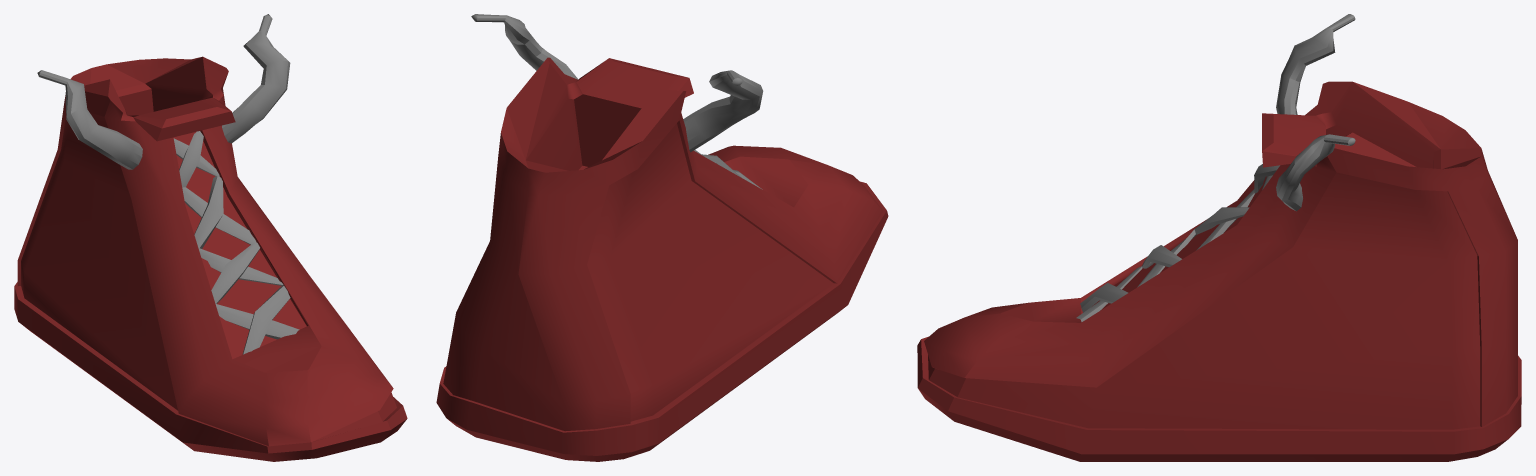
Rendered from Jordan Bike.fbx.
3 views of the same model, side by side, from view 1: azimuth 30°, elevation 25°; view 2: azimuth 150°, elevation 25°; view 3: azimuth 270°, elevation 25° (orthographic). The views are drawn at different scales.
Parts seen in each view (by area): view 1: polySurface20 (×2); view 2: polySurface20 (×2); view 3: polySurface20 (×2).
Part boxes in pixels (x1,y1,x2,y2): polySurface20 (×2): (14,14,407,461); polySurface20 (×2): (436,14,888,461); polySurface20 (×2): (917,14,1521,461).
Bounding box in the file's own units: 11.81 × 14.52 × 23.58.
